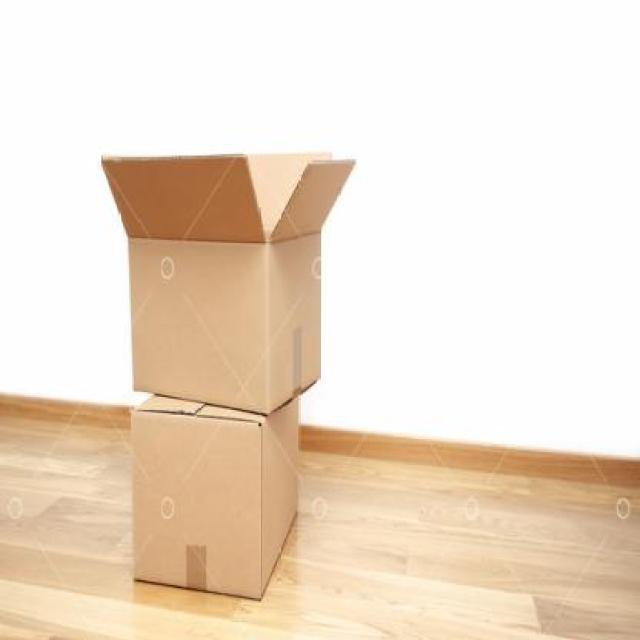box: (92, 132, 362, 416), (123, 384, 308, 603)
